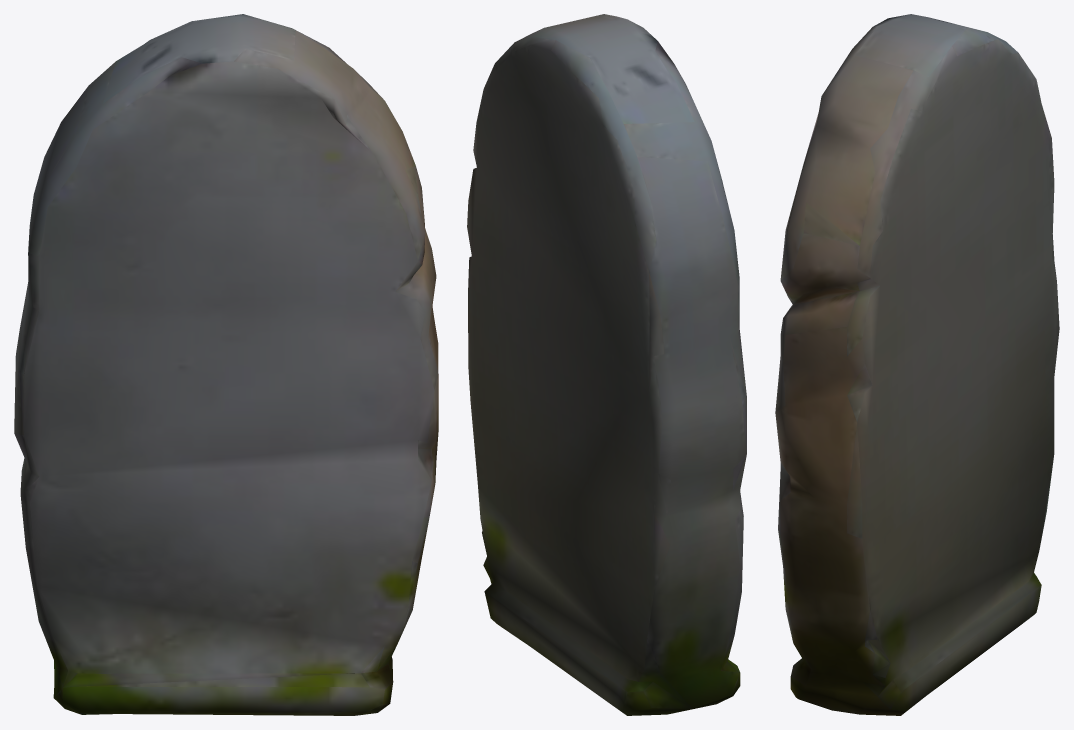
File: wyn_quest_name_stone.glb
3 renders of one model, left to right at view 1: azimuth 30°, elevation 25°; view 2: azimuth 150°, elevation 25°; view 3: azimuth 270°, elevation 25°, orthographic. The views are drawn at different scales.
Visible parts, largest first — view 1: tripo_node_d0900192-66bc-4ce8-9c75-08d6ed8d6c18; view 2: tripo_node_d0900192-66bc-4ce8-9c75-08d6ed8d6c18; view 3: tripo_node_d0900192-66bc-4ce8-9c75-08d6ed8d6c18.
Part boxes in pixels (bbox=[...]): tripo_node_d0900192-66bc-4ce8-9c75-08d6ed8d6c18: bbox=[14, 14, 438, 715]; tripo_node_d0900192-66bc-4ce8-9c75-08d6ed8d6c18: bbox=[467, 14, 746, 715]; tripo_node_d0900192-66bc-4ce8-9c75-08d6ed8d6c18: bbox=[775, 14, 1059, 715].
Bounding box in the file's own units: 0.447 × 0.8 × 0.3265.
Materials: 1 (1 with a texture image).
